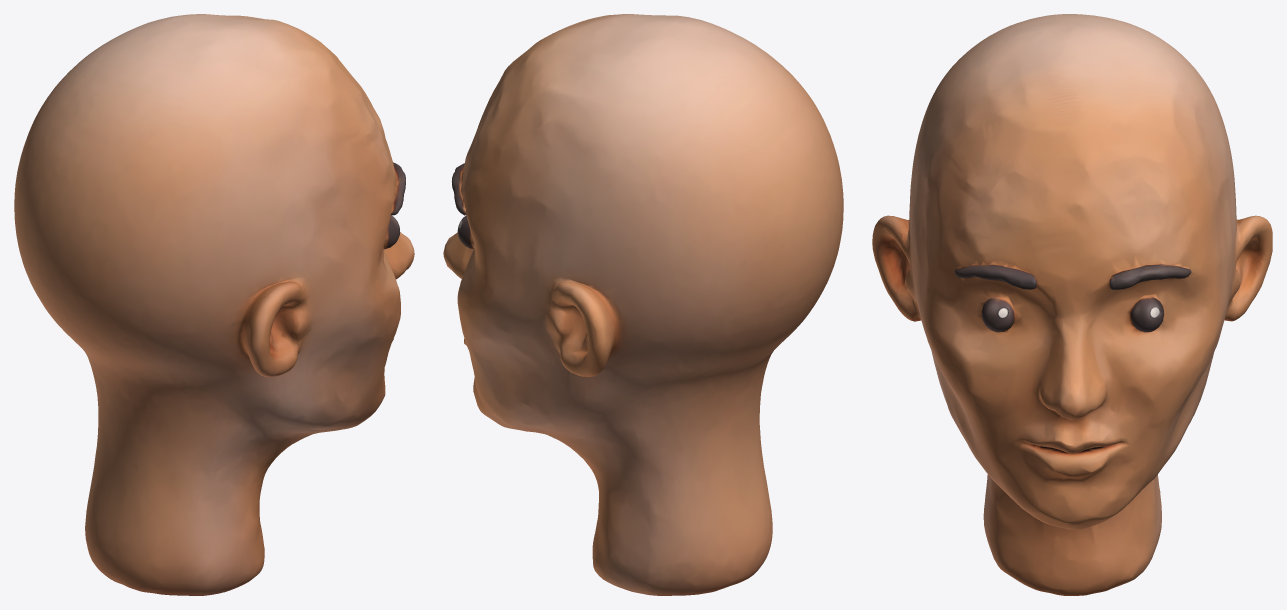
File: head_woman.glb
The picture shows the model from 3 angles, left to right: view 1: azimuth 30°, elevation 25°; view 2: azimuth 150°, elevation 25°; view 3: azimuth 270°, elevation 25°; orthographic projection.
Parts seen in each view (by area): view 1: tripo_node_93e3f6e0-6733-498d-8e06-39f7991ab61a; view 2: tripo_node_93e3f6e0-6733-498d-8e06-39f7991ab61a; view 3: tripo_node_93e3f6e0-6733-498d-8e06-39f7991ab61a.
Boxes of the visible parts, x1,y1,x2,y2 form: tripo_node_93e3f6e0-6733-498d-8e06-39f7991ab61a: (14, 14, 414, 595); tripo_node_93e3f6e0-6733-498d-8e06-39f7991ab61a: (443, 14, 843, 595); tripo_node_93e3f6e0-6733-498d-8e06-39f7991ab61a: (872, 14, 1272, 595).
Bounding box in the file's own units: 0.7295 × 1 × 0.6687.
Materials: 1 (1 with a texture image).
